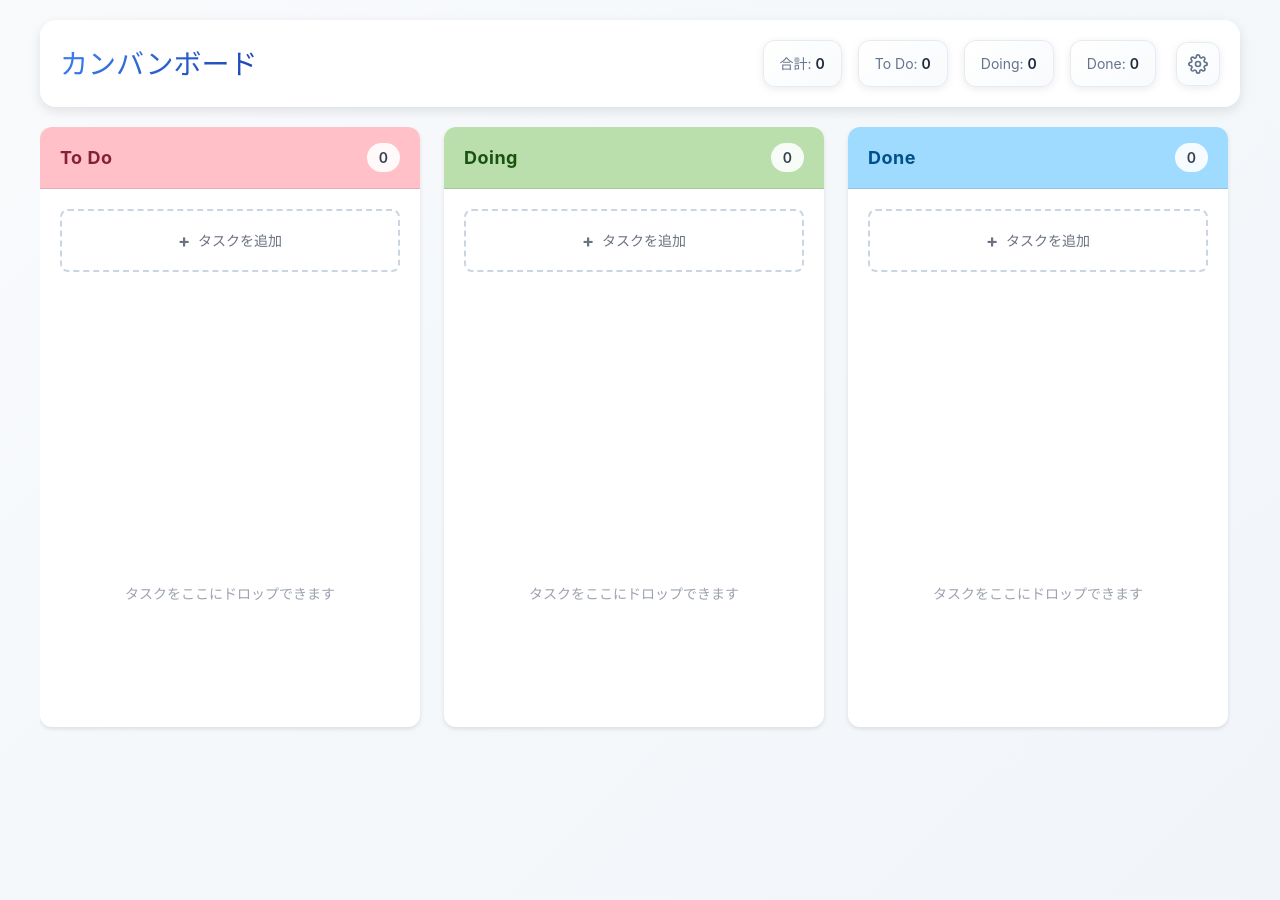
it: KanbanBoard Settings Button › should close modal when close button is clicked
The width and height of the screenshot is (1280, 900).
Click the button with test id "settings-button" at (1198, 64), box x1=1176 y1=42 x2=1220 y2=86
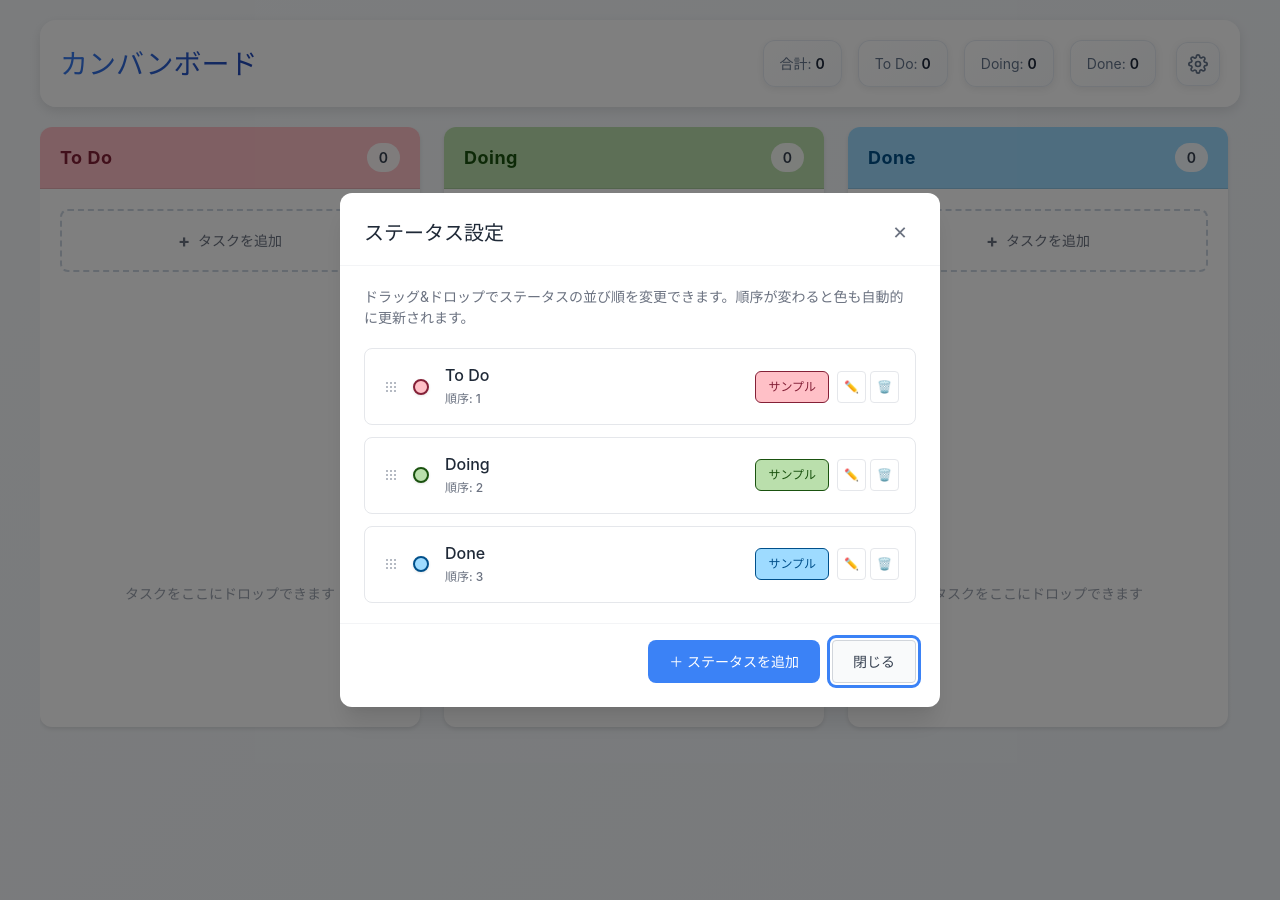
Result: the dialog with test id "status-settings-modal" is shown
# Click close button
Click the button with test id "close-modal-button" at (900, 233), box x1=884 y1=217 x2=916 y2=249
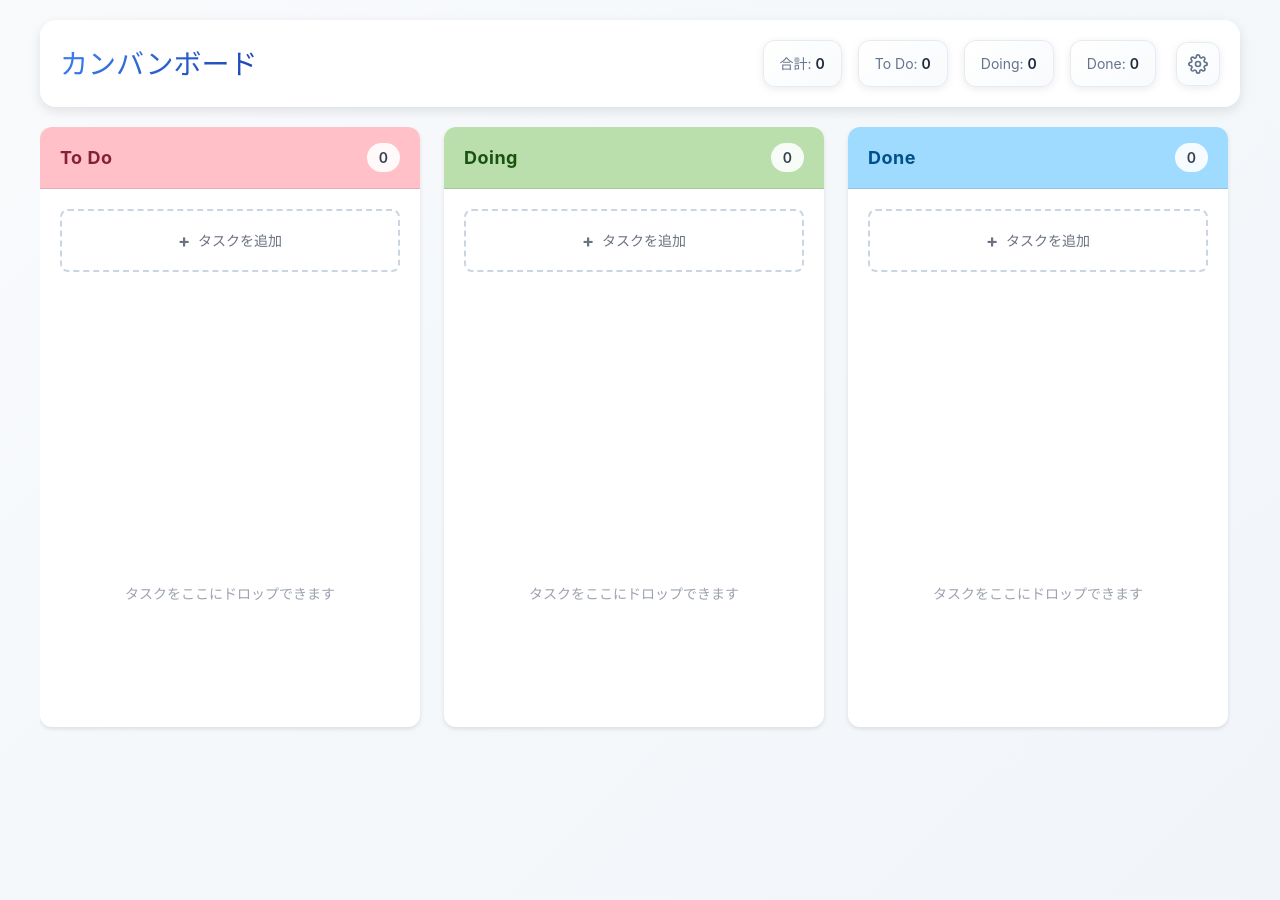
Result: the dialog with test id "status-settings-modal" is gone
